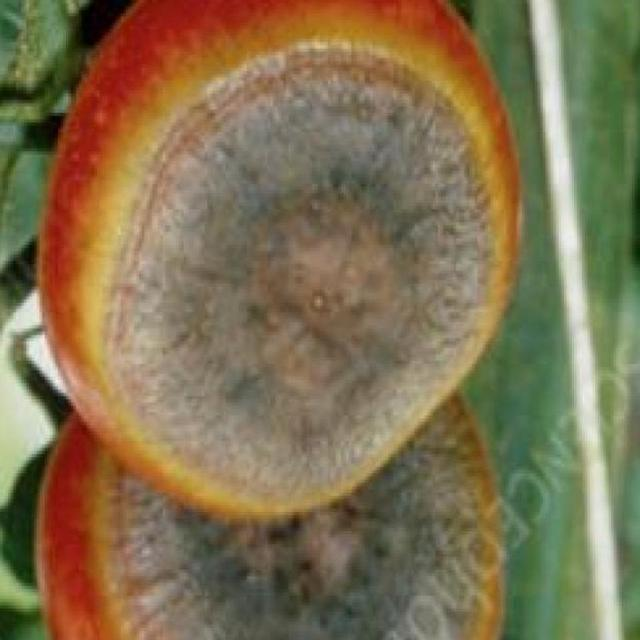Blossom End Rot Fruit: (198, 154, 264, 350)
